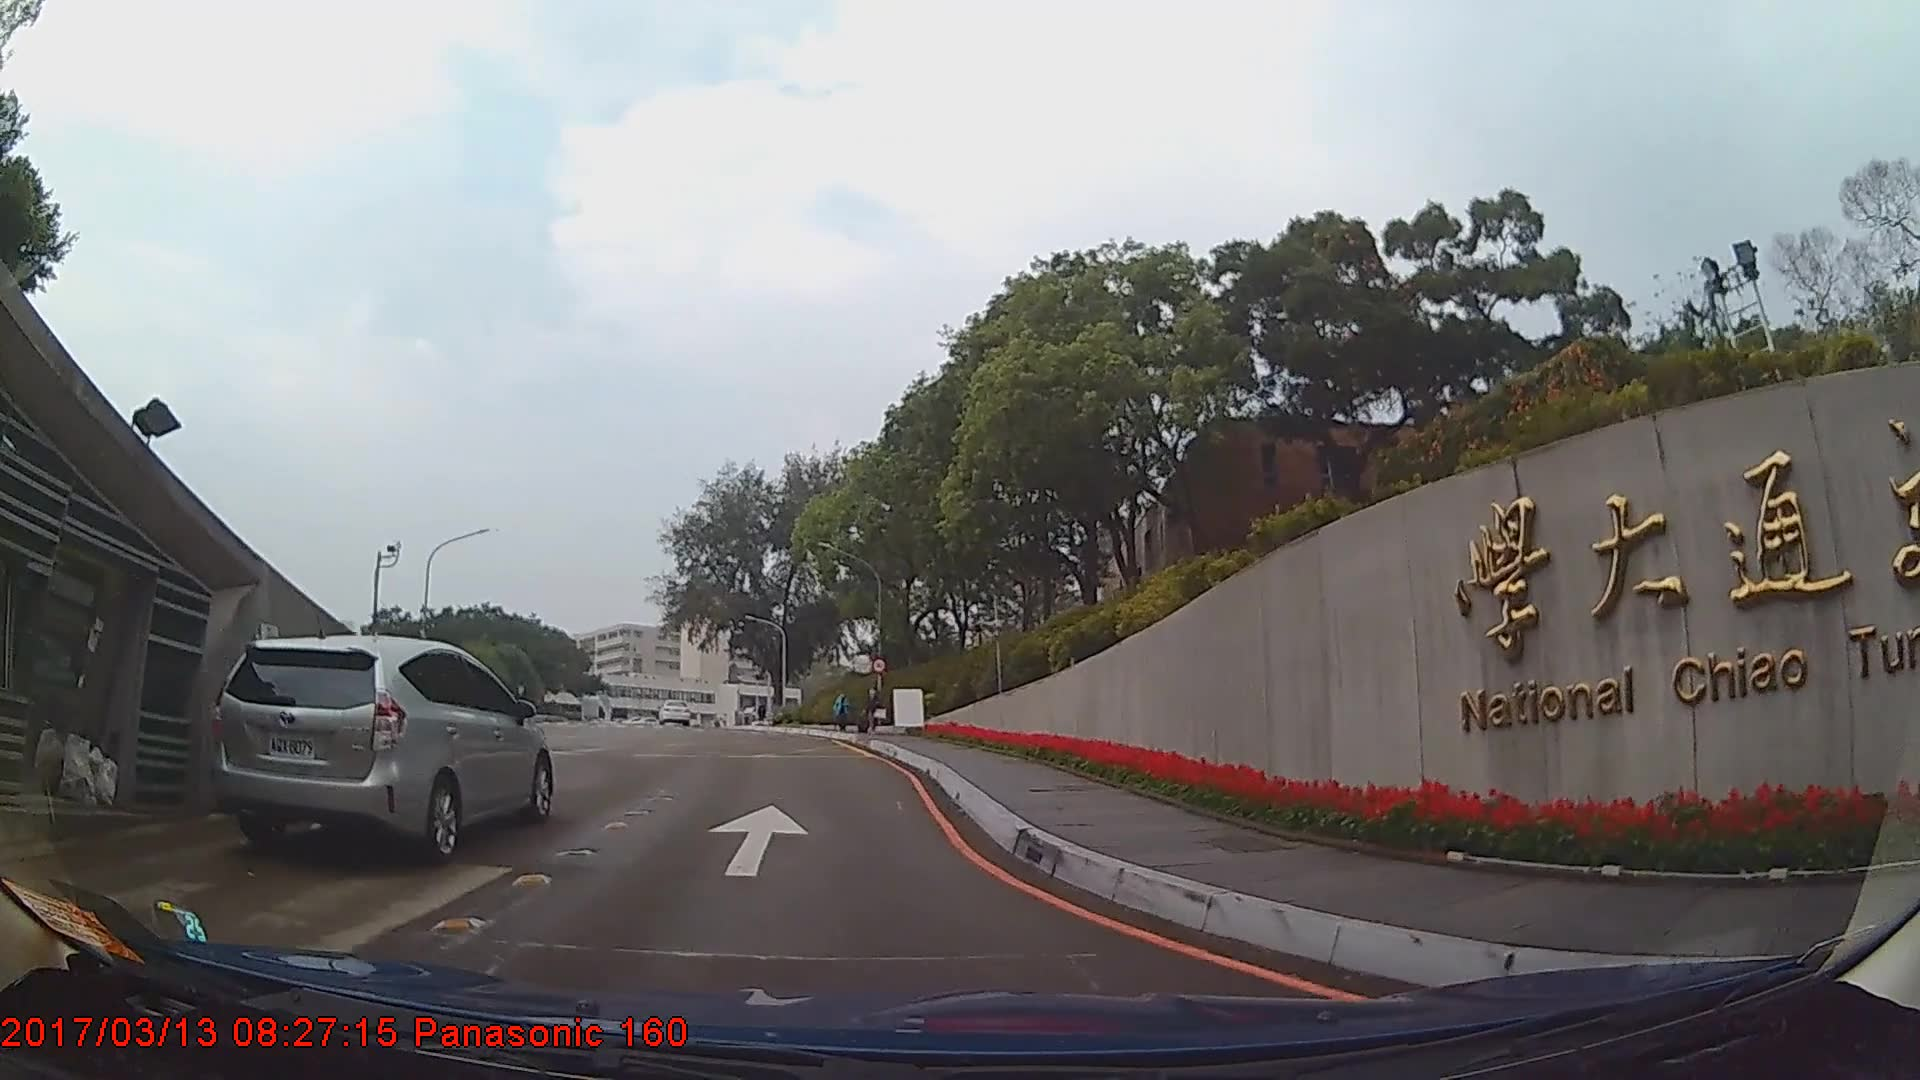pedestrian: (860, 687, 889, 736), (833, 692, 853, 735)
vehicle: (212, 631, 555, 864), (652, 694, 691, 723)
